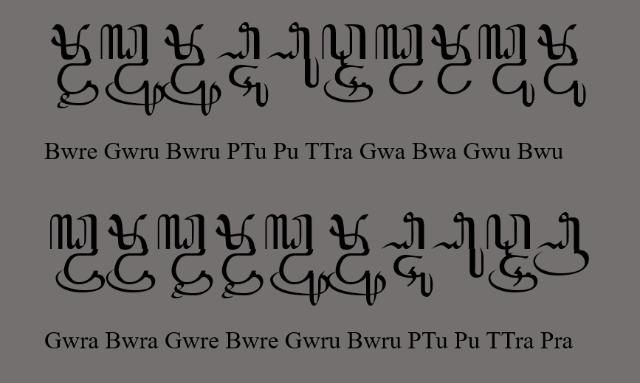Bw: (430, 23, 472, 95)
Bwr: (106, 213, 156, 294)
Bwre: (50, 24, 100, 110), (216, 214, 264, 300)
Bwru: (162, 24, 222, 117), (326, 215, 386, 307)
Bwu: (538, 22, 586, 108)
Gw: (374, 23, 424, 95)
Gwr: (49, 213, 107, 294)
Gwre: (157, 214, 213, 300)
Gwru: (264, 214, 330, 308), (100, 24, 164, 116)
Gwu: (478, 23, 534, 107)
T: (486, 213, 530, 257), (322, 24, 366, 61)
_P: (380, 212, 426, 250), (216, 22, 260, 60)
_Pr: (533, 211, 589, 276)
_Pu: (266, 21, 320, 88), (432, 211, 484, 278)
_Tr: (323, 64, 373, 104), (488, 254, 538, 294)
_Tu: (229, 64, 269, 108), (393, 254, 433, 298)
